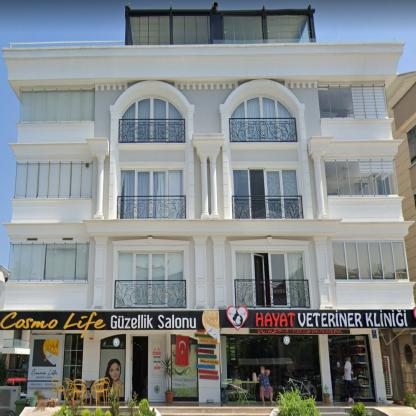door: (147, 336, 168, 402)
window: (226, 335, 324, 400), (117, 251, 183, 306), (5, 244, 90, 282), (120, 168, 184, 217), (328, 334, 374, 402), (332, 239, 409, 279), (230, 96, 296, 141), (14, 160, 92, 198), (120, 96, 184, 140), (324, 160, 398, 197), (19, 88, 95, 122), (127, 14, 212, 44), (317, 84, 387, 118), (223, 13, 310, 40), (270, 252, 308, 306), (264, 168, 301, 218), (236, 251, 265, 306), (233, 170, 251, 217), (406, 125, 413, 164)
